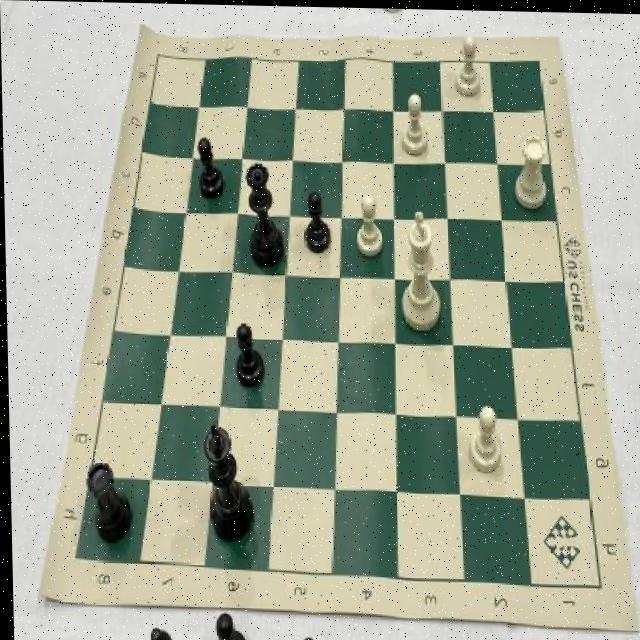black-bishop: (200, 413, 254, 547)
black-knight: (228, 317, 267, 389), (298, 185, 332, 256), (193, 133, 227, 201)
black-pawn: (240, 158, 288, 271)
black-queen: (82, 457, 133, 549)
white-bishop: (394, 204, 446, 332)
white-knight: (465, 399, 505, 478), (450, 31, 488, 98), (397, 88, 432, 159), (351, 189, 386, 259)
white-queen: (509, 131, 553, 210)
